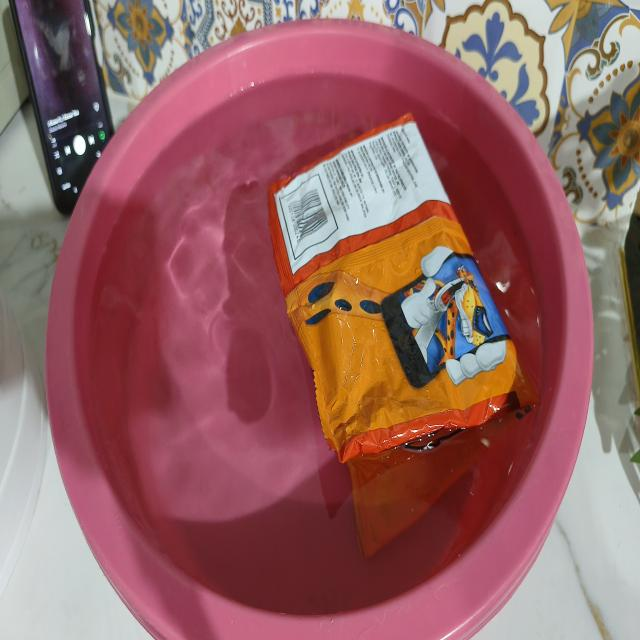Plastic Wrapper: (270, 122, 539, 550)
